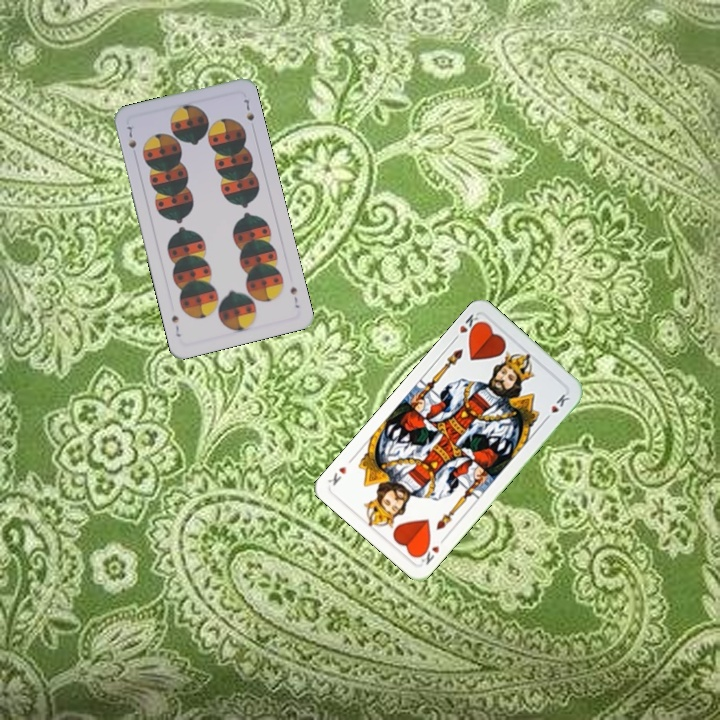HK: (449, 310, 485, 344), (417, 533, 448, 568)
S7: (123, 122, 139, 150), (286, 283, 302, 311)
